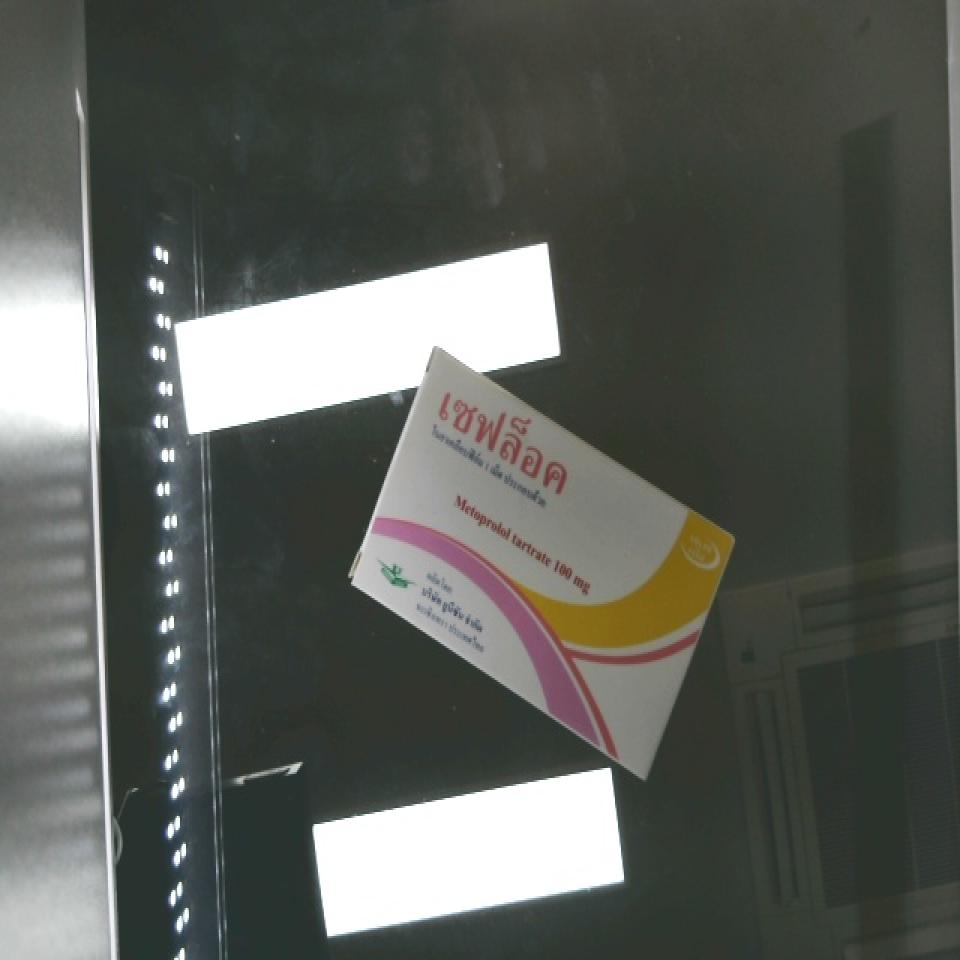medicine_box: (297, 345, 784, 784)
medicine_label_obb: (399, 350, 608, 517)
